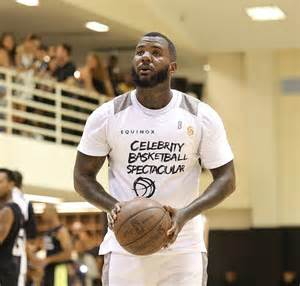basketball: (117, 199, 171, 254)
